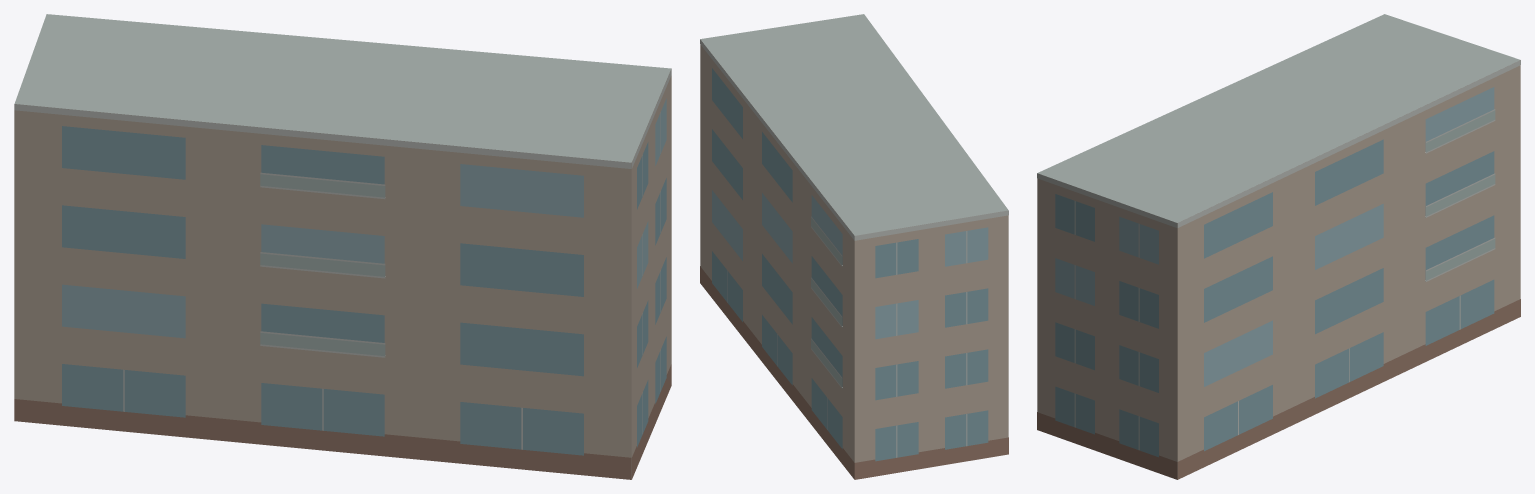
The model's file is survey-upis-33014180.glb.
3 renders of one model, left to right at view 1: azimuth 30°, elevation 25°; view 2: azimuth 150°, elevation 25°; view 3: azimuth 270°, elevation 25°, orthographic. The views are drawn at different scales.
Parts seen in each view (by area): view 1: survey-upis-33014180.tmp; view 2: survey-upis-33014180.tmp; view 3: survey-upis-33014180.tmp.
Boxes of the visible parts, bbox=[...] form: survey-upis-33014180.tmp: bbox=[14, 14, 671, 479]; survey-upis-33014180.tmp: bbox=[700, 14, 1008, 479]; survey-upis-33014180.tmp: bbox=[1037, 14, 1520, 479].
Size of the model in its own units: 21.13 by 12.1 by 20.66.
